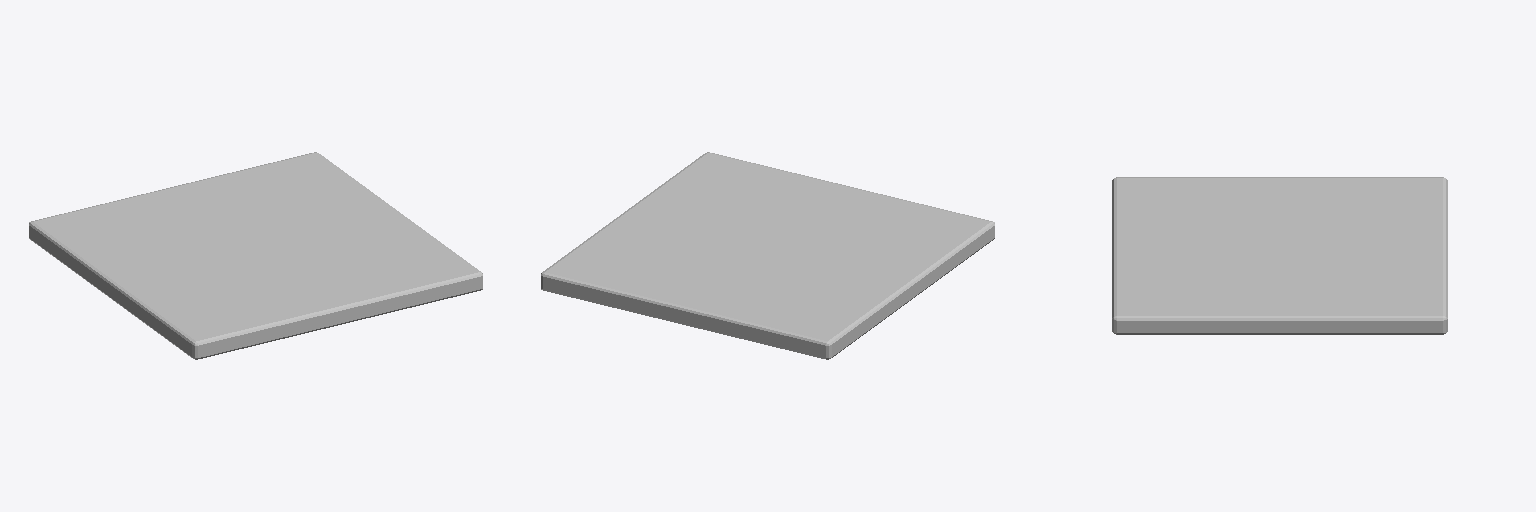
The model's file is chessboard6.obj.
3 views of the same model, side by side, from view 1: azimuth 30°, elevation 25°; view 2: azimuth 150°, elevation 25°; view 3: azimuth 270°, elevation 25° (orthographic).
Visible parts, largest first — view 1: Cube.001; view 2: Cube.001; view 3: Cube.001.
Part boxes in pixels (x1,y1,x2,y2): Cube.001: (29, 152, 482, 359); Cube.001: (541, 152, 994, 359); Cube.001: (1112, 177, 1447, 334).
Size of the model in its own units: 0.768 by 0.0455 by 0.768.